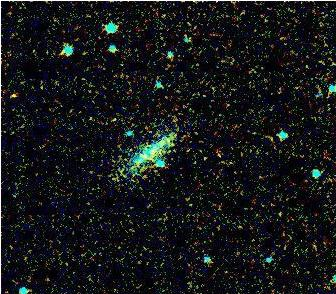star: (0, 81, 30, 111)
